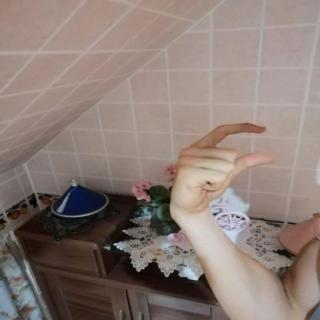DELL: (160, 117, 282, 219)
